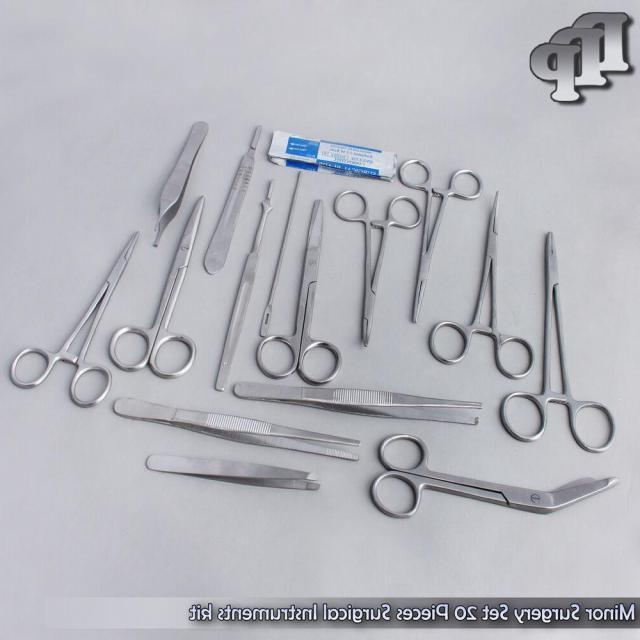Forceps: (112, 396, 363, 464), (232, 380, 486, 428), (152, 118, 210, 250), (144, 452, 323, 492)
Hemostat: (8, 228, 140, 408), (426, 186, 536, 381), (395, 156, 484, 324), (332, 187, 422, 349)
Mayo_metz: (368, 433, 622, 521), (107, 194, 206, 380), (253, 196, 343, 386)
Scalpel: (213, 178, 275, 394), (202, 122, 264, 276)
